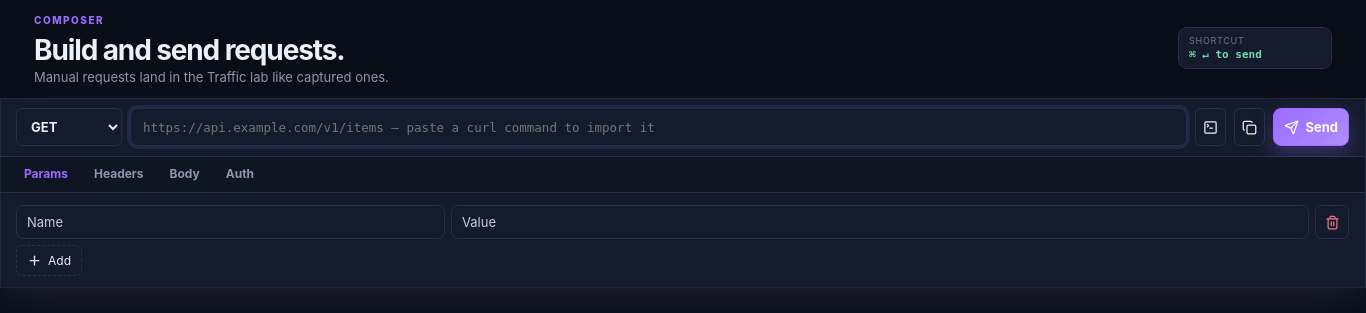
Test case: ComposerView › shows a clear error when sending without a URL
Click the button "Send" at (1311,127), box [1274,108,1349,146]
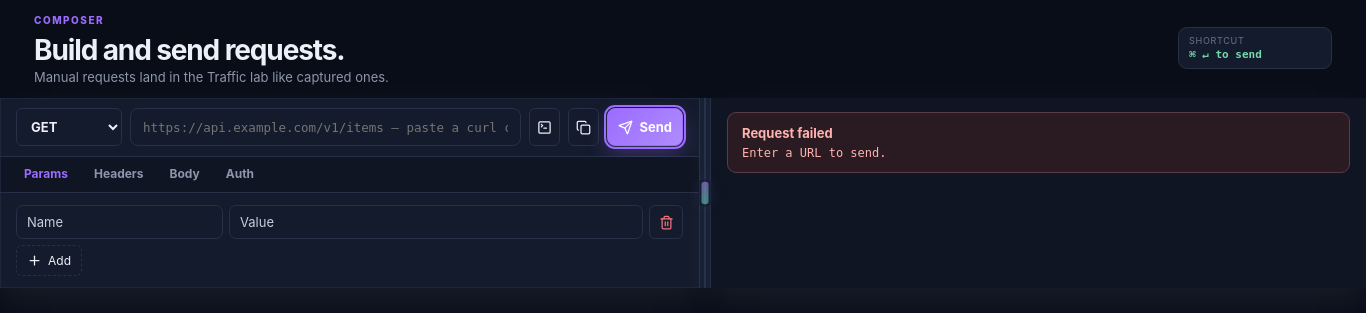
Now the text "Enter a URL to send." is shown, box [742,146,886,160]
